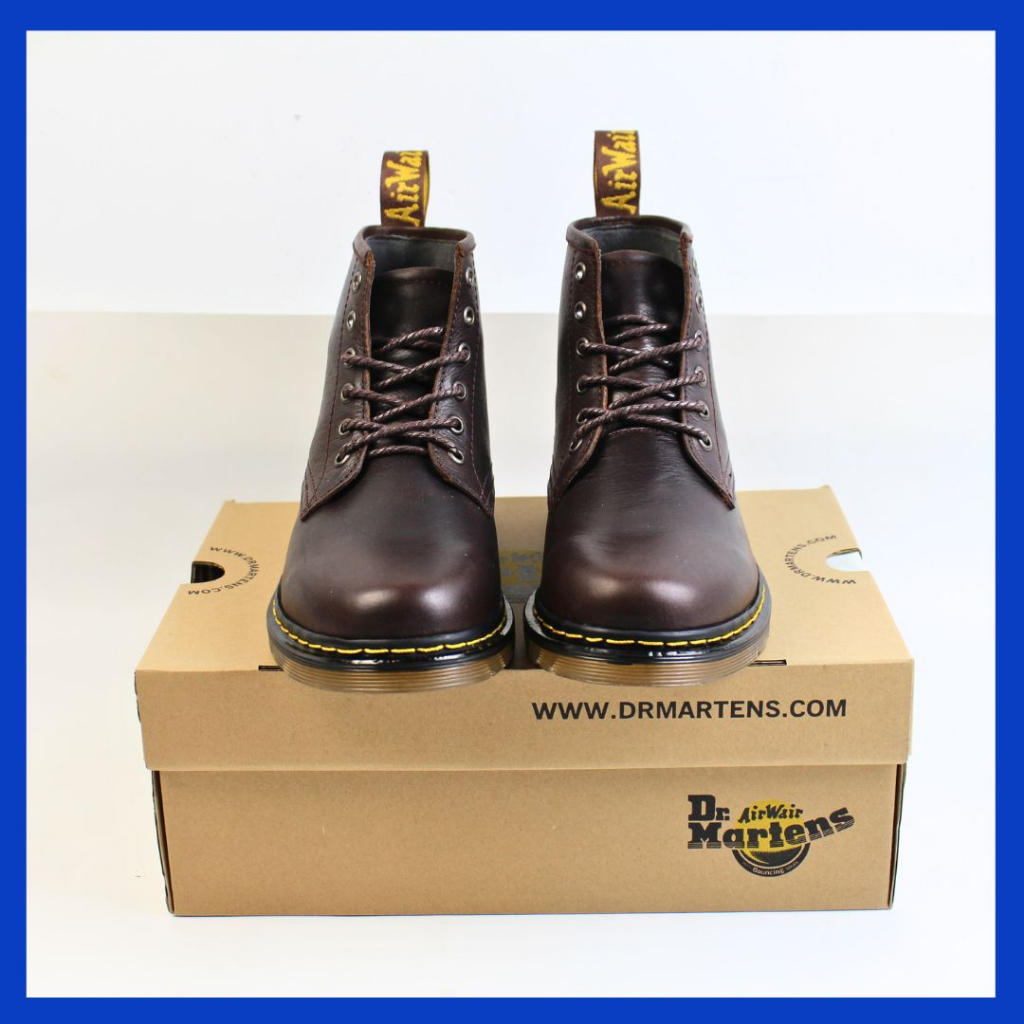boots: (525, 121, 774, 691), (264, 143, 518, 687)
